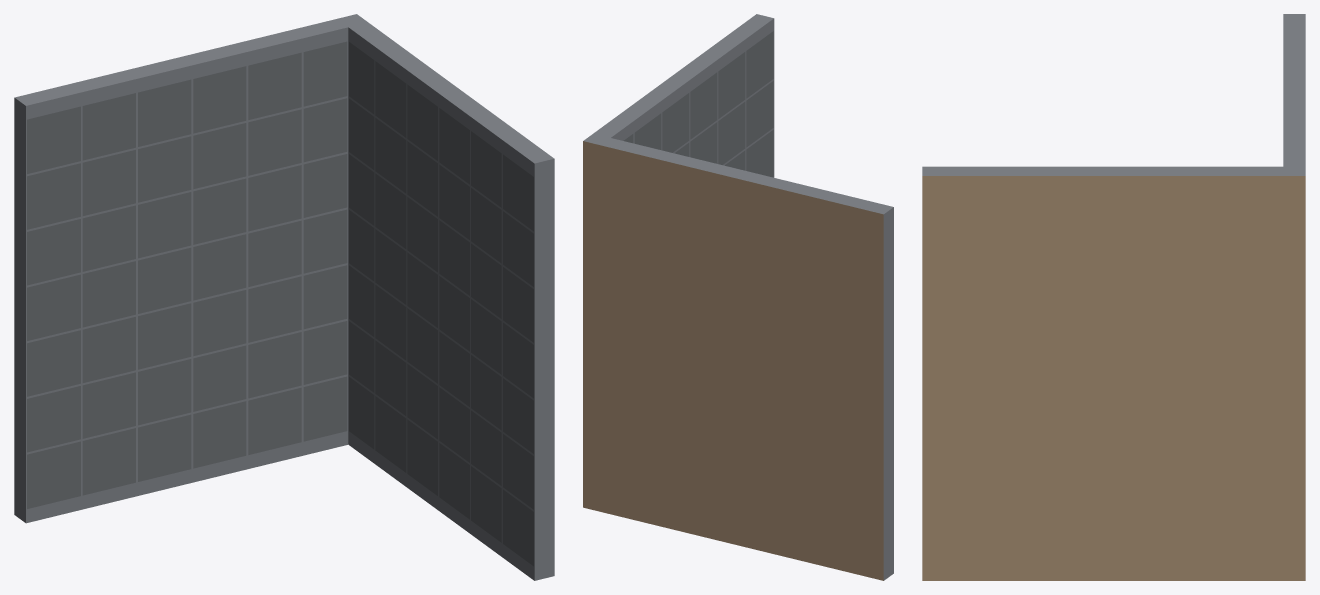
File: Wall2_C7_06.fbx
3 views of the same model, side by side, from view 1: azimuth 30°, elevation 25°; view 2: azimuth 150°, elevation 25°; view 3: azimuth 270°, elevation 25° (orthographic). The views are drawn at different scales.
Visible parts, largest first — view 1: Wall2_C7_06; view 2: Wall2_C7_06; view 3: Wall2_C7_06.
Boxes of the visible parts, bbox=[...] form: Wall2_C7_06: bbox=[14, 14, 554, 580]; Wall2_C7_06: bbox=[583, 14, 893, 580]; Wall2_C7_06: bbox=[922, 14, 1305, 580].
Size of the model in its own units: 258 by 300 by 258.
